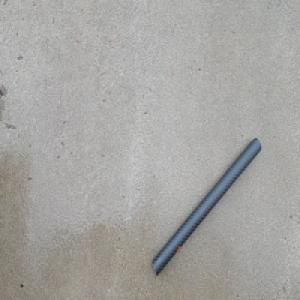LuggagePart: (151, 135, 261, 276)
